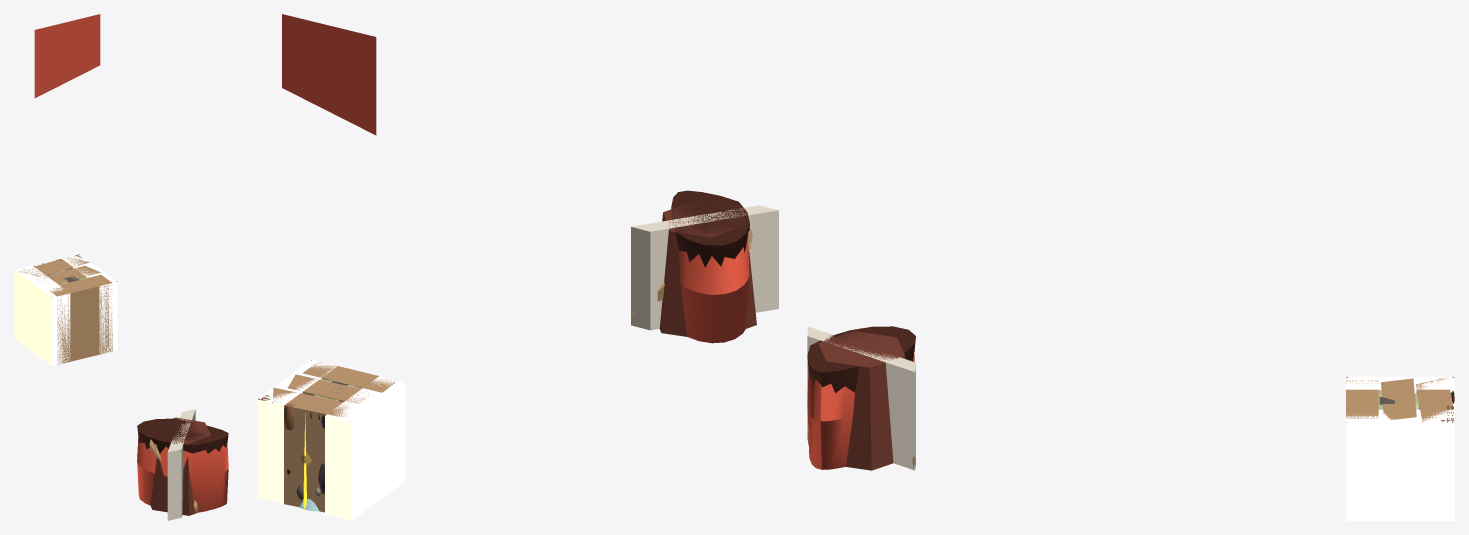
Rendered from ile-forteresse-v4.glb.
3 views of the same model, side by side, from view 1: azimuth 30°, elevation 25°; view 2: azimuth 150°, elevation 25°; view 3: azimuth 270°, elevation 25° (orthographic). The views are drawn at different scales.
Visible parts, largest first — view 1: forteresse_decor, forteresse_sloop, forteresse_drapeau; view 2: forteresse_decor, forteresse_sloop, forteresse_drapeau; view 3: forteresse_decor, forteresse_sloop.
Part boxes in pixels (box(x1,y1,x2,y2)): forteresse_decor: box(14, 254, 117, 366); forteresse_sloop: box(137, 409, 228, 520); forteresse_drapeau: box(34, 14, 100, 97); forteresse_decor: box(257, 359, 405, 520); forteresse_sloop: box(631, 190, 778, 343); forteresse_drapeau: box(282, 14, 376, 135); forteresse_decor: box(1346, 376, 1454, 520); forteresse_sloop: box(807, 326, 915, 470).
Bounding box in the file's own units: 4.24 × 9.4 × 11.92.
